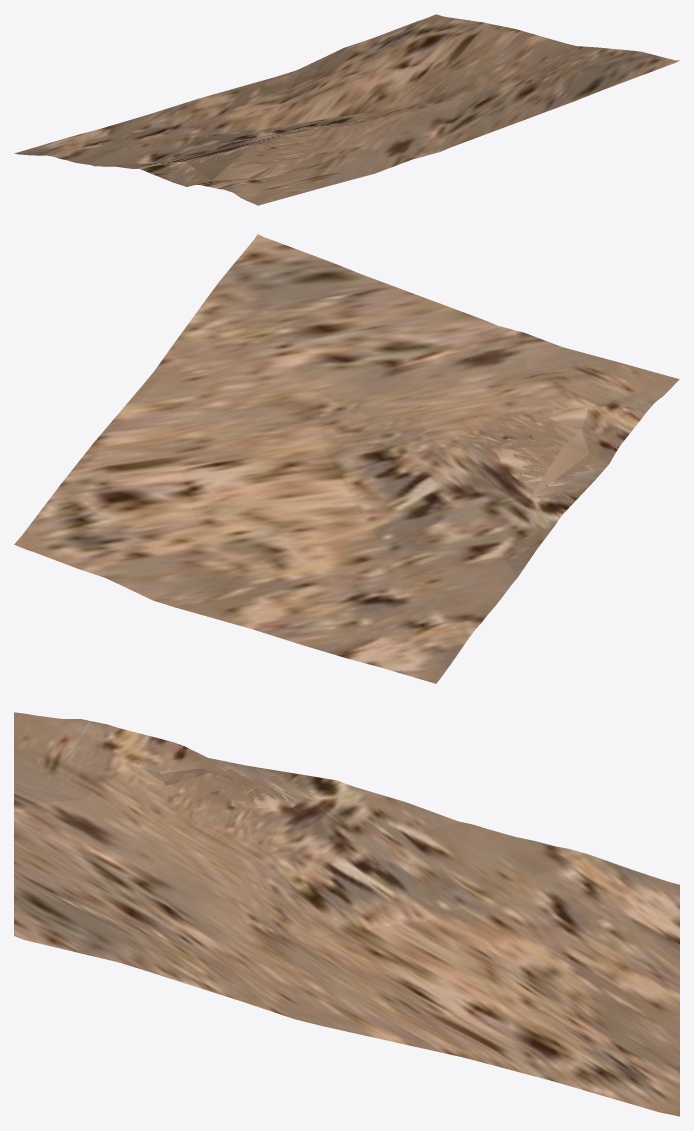
The picture shows the model from 3 angles, top to bottom: view 1: azimuth 30°, elevation 25°; view 2: azimuth 150°, elevation 25°; view 3: azimuth 270°, elevation 25°; orthographic projection. The views are drawn at different scales.
Bounding box in the file's own units: 1.04 × 0.3984 × 1.04.
Materials: 3 (3 with a texture image).
